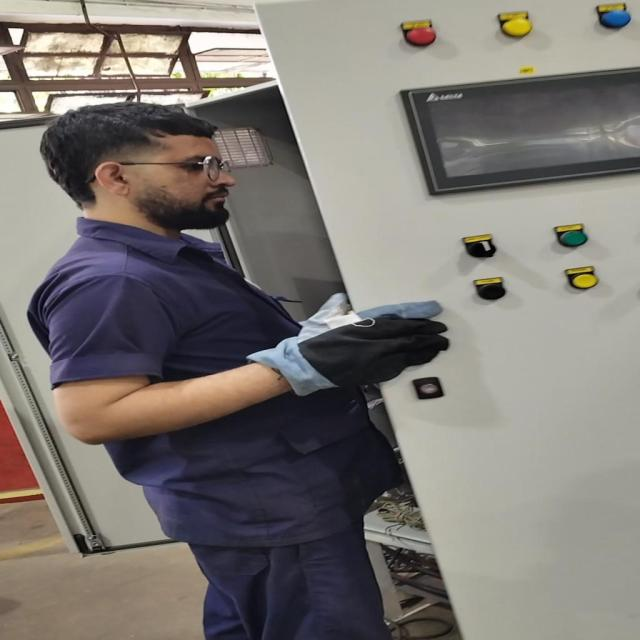Gloves-Detection: (245, 286, 470, 386)
